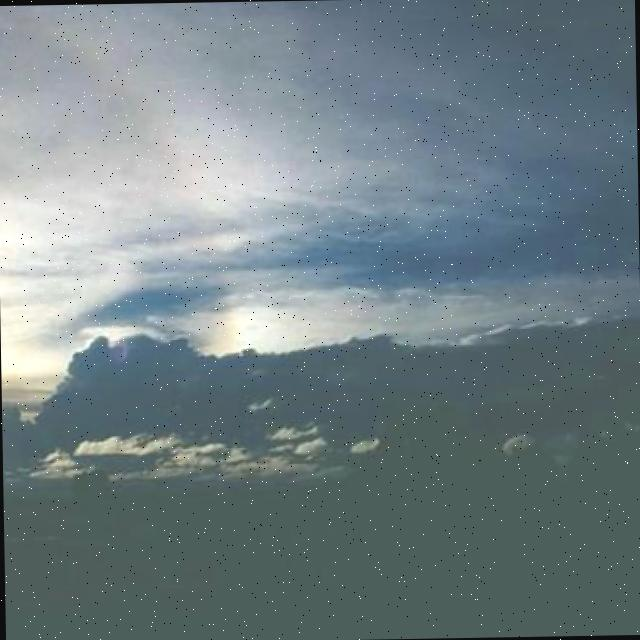St: (1, 31, 640, 577)
